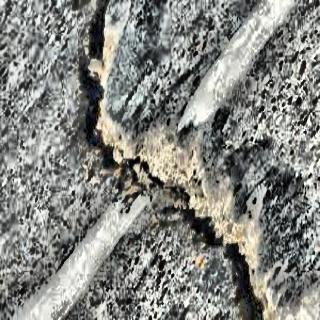pothole: (70, 0, 276, 320)
